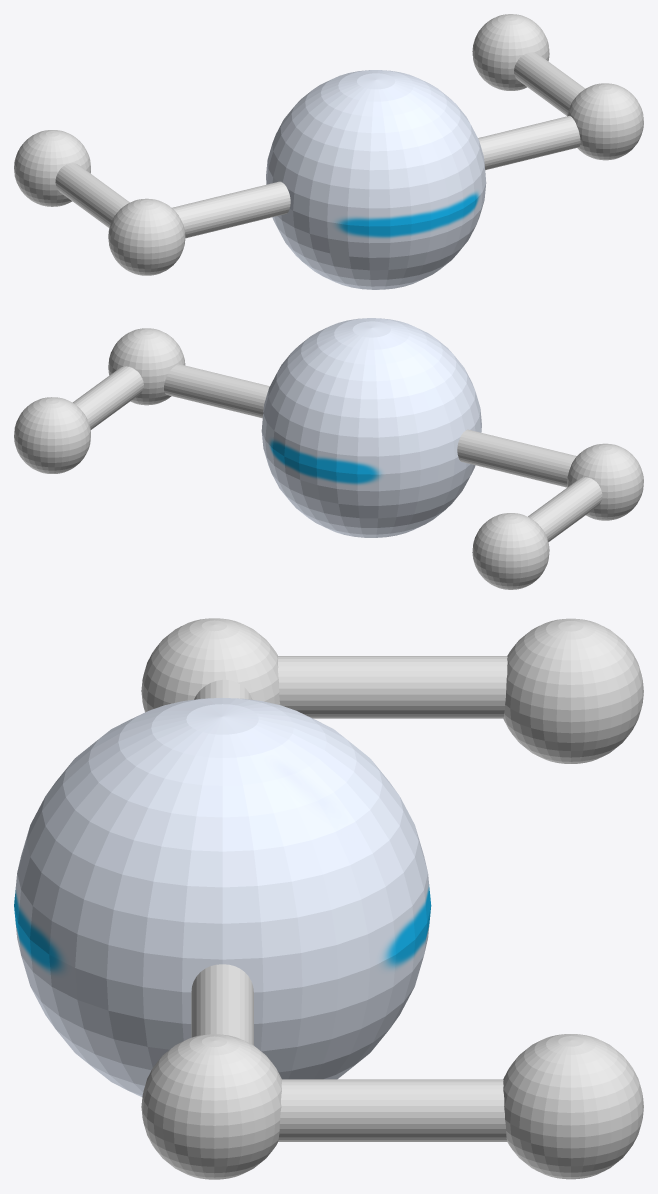
File: -Ion.gltf
The picture shows the model from 3 angles, top to bottom: view 1: azimuth 30°, elevation 25°; view 2: azimuth 150°, elevation 25°; view 3: azimuth 270°, elevation 25°; orthographic projection. The views are drawn at different scales.
Visible parts, largest first — view 1: Body, LArm, RArm; view 2: Body, LArm, RArm; view 3: Body, RArm, LArm.
Boxes of the visible parts, bbox=[...] form: Body: bbox=[266, 70, 486, 289]; LArm: bbox=[14, 130, 290, 275]; RArm: bbox=[472, 14, 643, 169]; Body: bbox=[261, 318, 481, 537]; LArm: bbox=[457, 429, 643, 589]; RArm: bbox=[14, 328, 269, 473]; Body: bbox=[14, 698, 431, 1096]; RArm: bbox=[141, 964, 643, 1179]; LArm: bbox=[141, 618, 643, 763].
Size of the model in its own units: 1.1 by 0.4 by 0.6039.
Materials: 1 (1 with a texture image).
